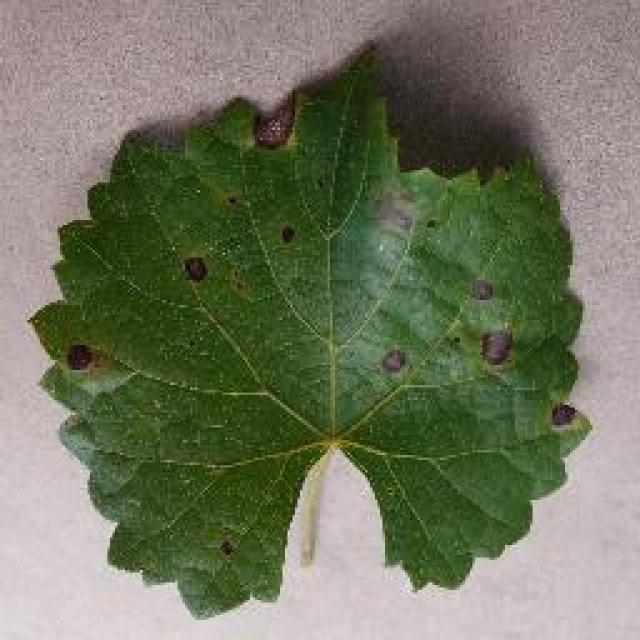Grape___Black_rot: (20, 37, 602, 624)
